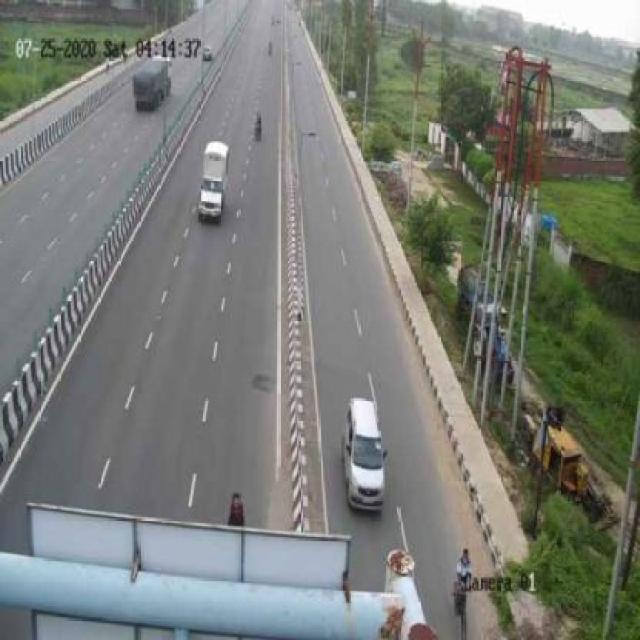car: (334, 391, 395, 514), (192, 138, 235, 231)
